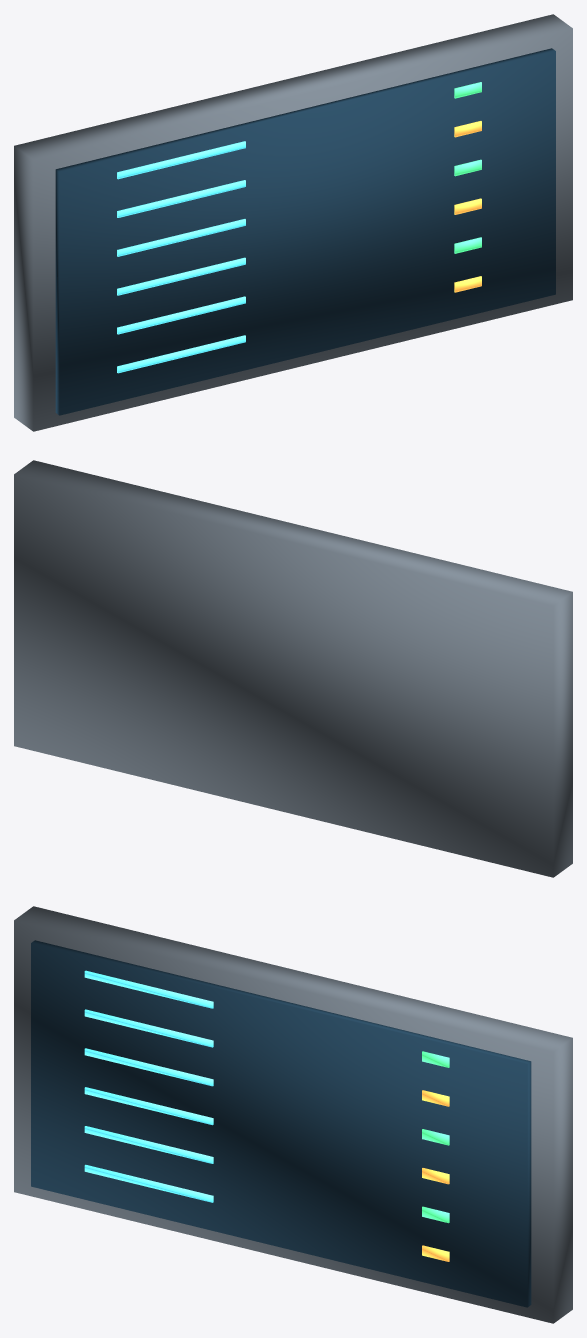
Rendered from 47_L94_PCBAssemblySCADAPanel.glb.
The picture shows the model from 3 angles, top to bottom: view 1: azimuth 30°, elevation 25°; view 2: azimuth 150°, elevation 25°; view 3: azimuth 330°, elevation 25°; orthographic projection.
Visible parts, largest first — view 1: L94_PCBAssemblySCADAPanel; view 2: L94_PCBAssemblySCADAPanel; view 3: L94_PCBAssemblySCADAPanel.
Boxes of the visible parts, left/top/right/bottom form: L94_PCBAssemblySCADAPanel: left=14, top=14, right=572, bottom=431; L94_PCBAssemblySCADAPanel: left=14, top=460, right=572, bottom=877; L94_PCBAssemblySCADAPanel: left=14, top=906, right=572, bottom=1323.
Bounding box in the file's own units: 1.6 × 0.77 × 0.1355.
